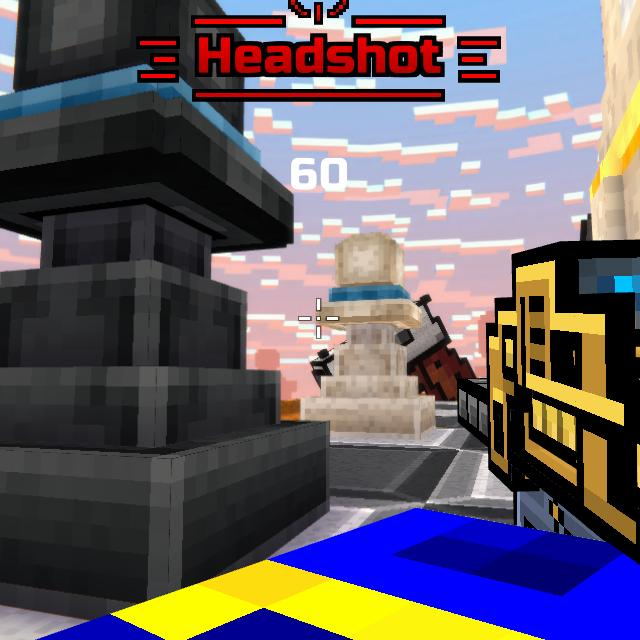Enemy: (415, 292, 433, 313)
